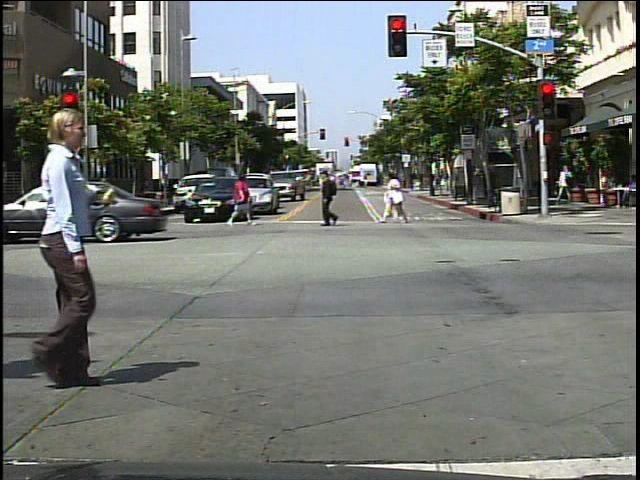person: (17, 90, 129, 401), (316, 157, 353, 232), (379, 163, 411, 227), (225, 168, 258, 227), (556, 160, 576, 207)
